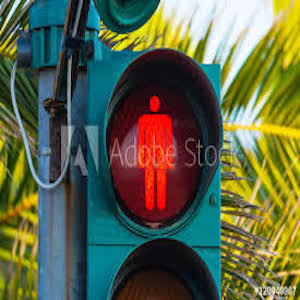red: (135, 90, 184, 214)
